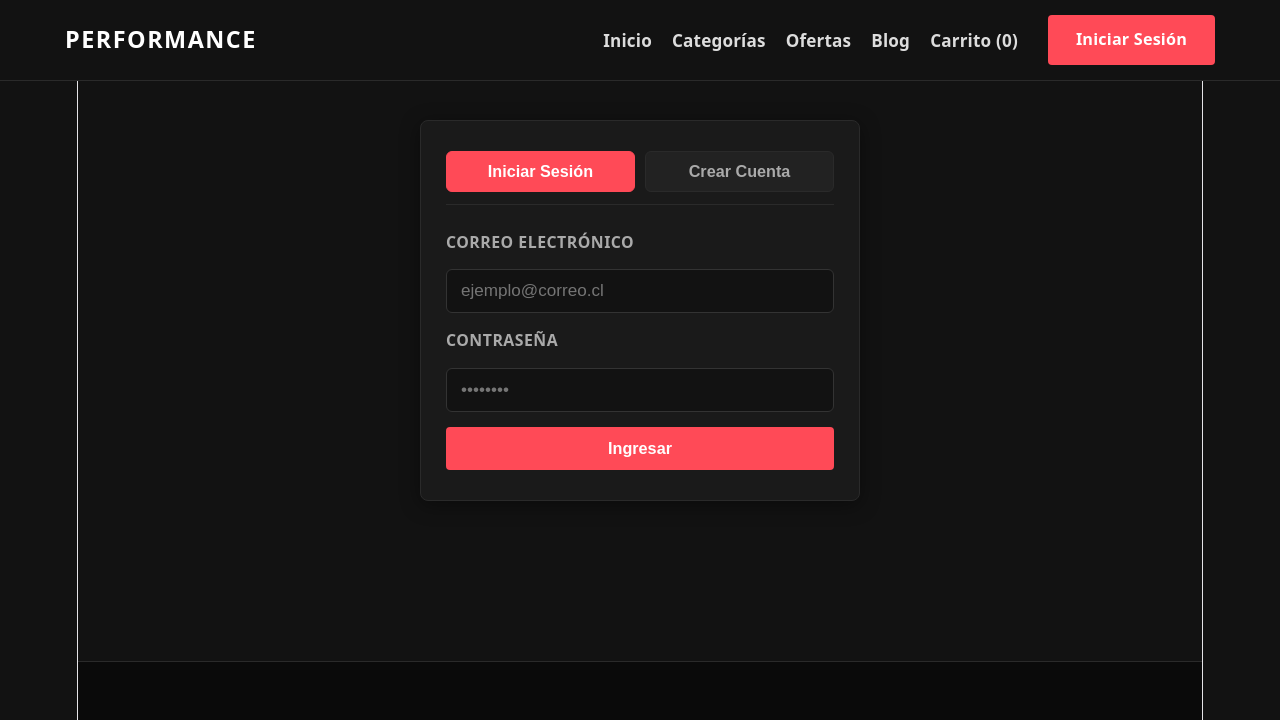
Test case: Shared session (ProveedorSesion) › rejects a wrong password with an error and opens no session
Type "admin@performance.cl" into the field labelled "Correo Electrónico".
click(640, 291); type("admin@performance.cl")  # box [446, 269, 834, 313]
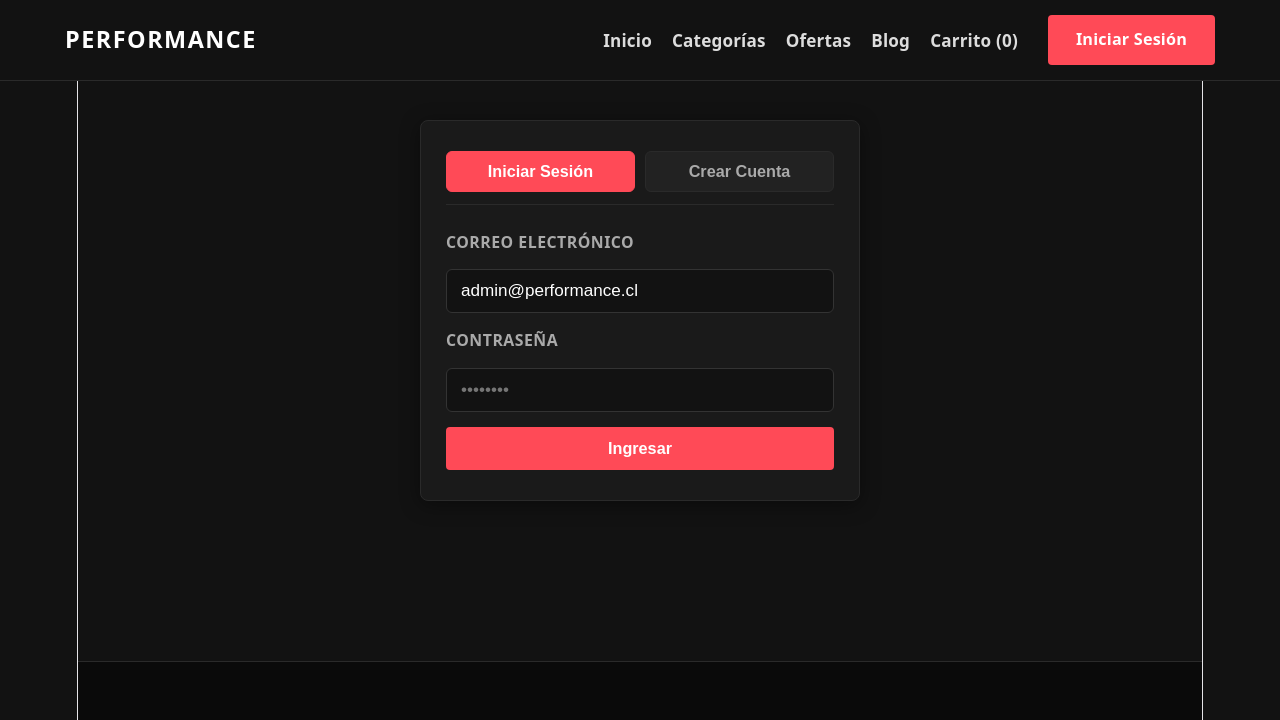
Type "incorrecta" into the password field labelled "Contraseña".
click(640, 390); type("incorrecta")  # box [446, 368, 834, 412]
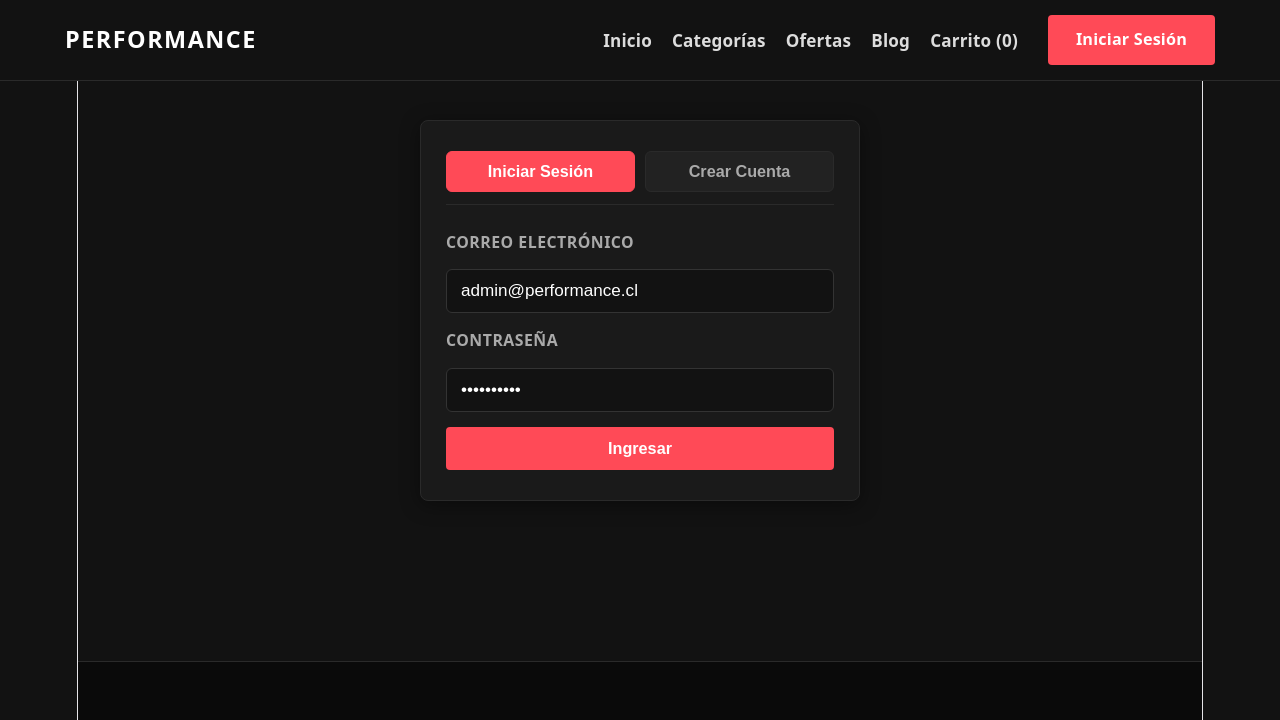
Click the button "Ingresar".
click(640, 448)  # box [446, 427, 834, 470]
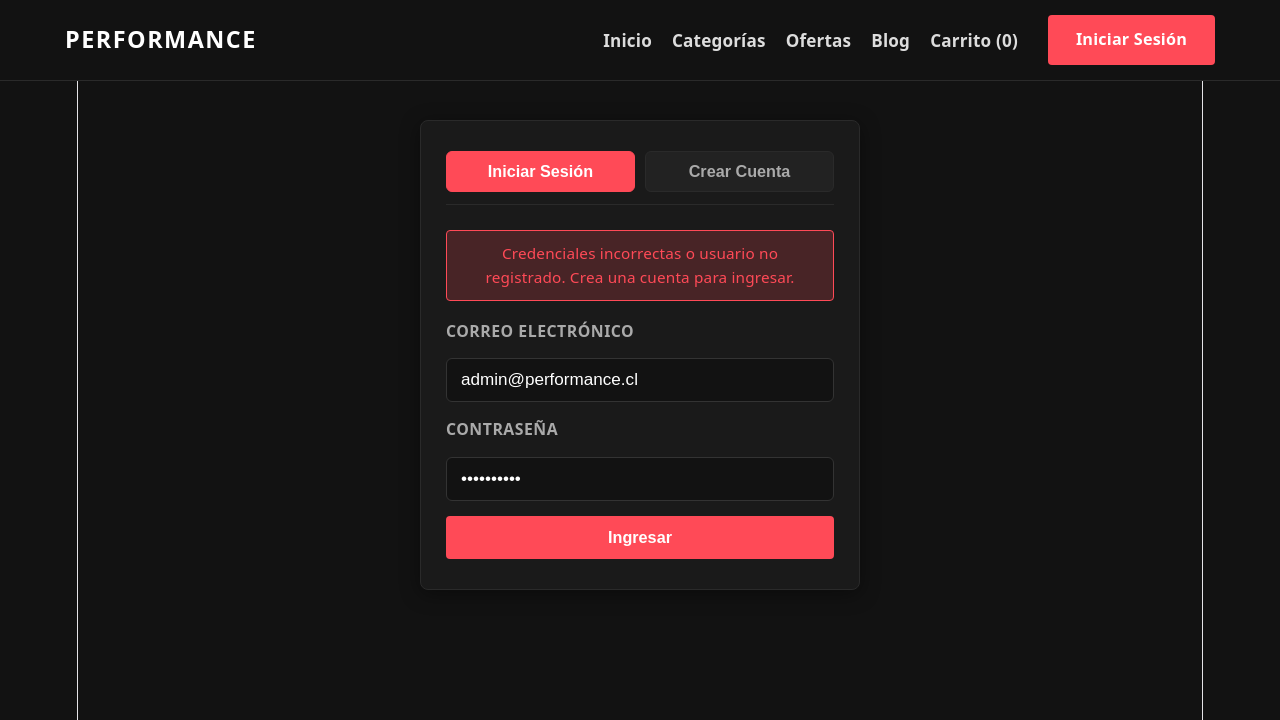
Now the message shows "Credenciales incorrectas", box [486, 243, 794, 288]
